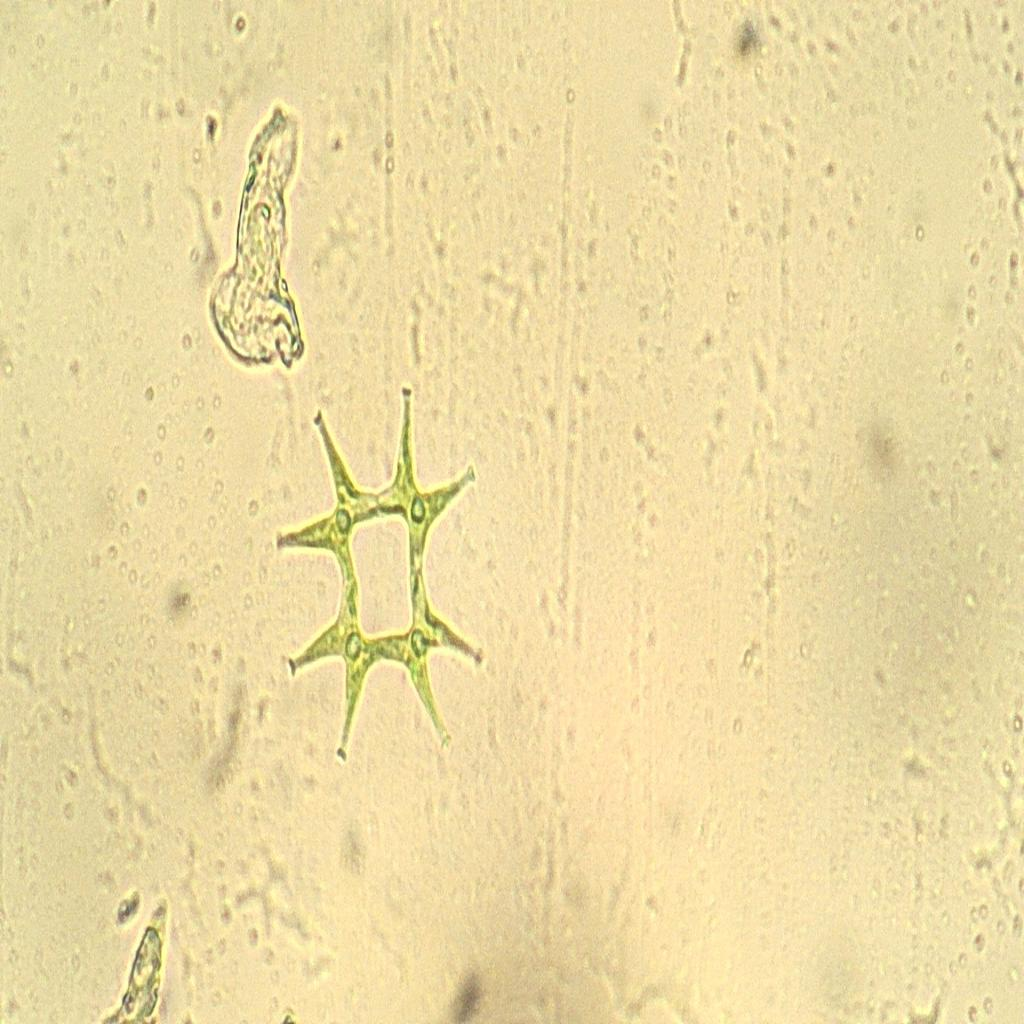Pediastrum_CO: (262, 355, 506, 805)
